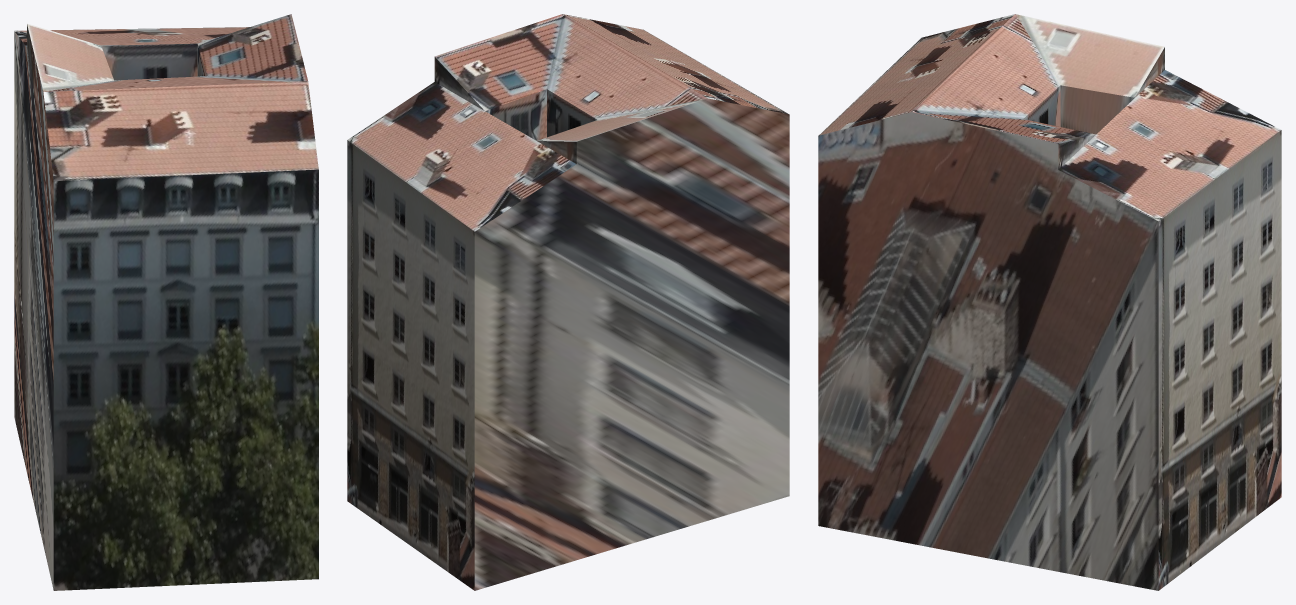
3 views of the same model, side by side, from view 1: azimuth 30°, elevation 25°; view 2: azimuth 150°, elevation 25°; view 3: azimuth 270°, elevation 25° (orthographic). The views are drawn at different scales.
Parts seen in each view (by area): view 1: Z_UP; view 2: Z_UP; view 3: Z_UP.
Part boxes in pixels (x1,y1,x2,y2): Z_UP: (14, 14, 318, 590); Z_UP: (347, 14, 789, 590); Z_UP: (818, 14, 1281, 590).
Size of the model in its own units: 21.29 by 26.3 by 25.55.
Materials: 2 (1 with a texture image).
